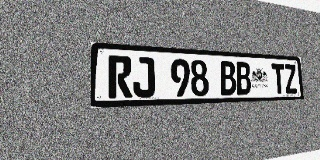8: (190, 59, 209, 96)
9: (171, 58, 191, 97)
B: (219, 61, 236, 95), (235, 62, 252, 95)
J: (133, 57, 155, 98)
R: (108, 55, 132, 98)
T: (271, 63, 286, 94)
Z: (284, 64, 298, 94)
